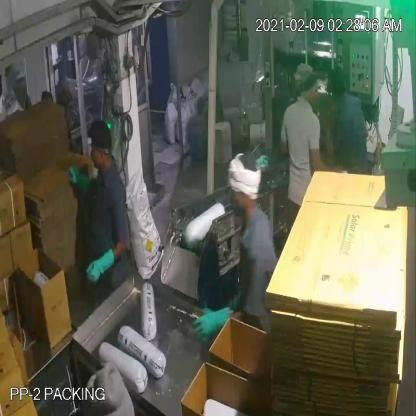glove: (186, 287, 244, 351), (80, 246, 124, 288), (64, 155, 98, 201)
